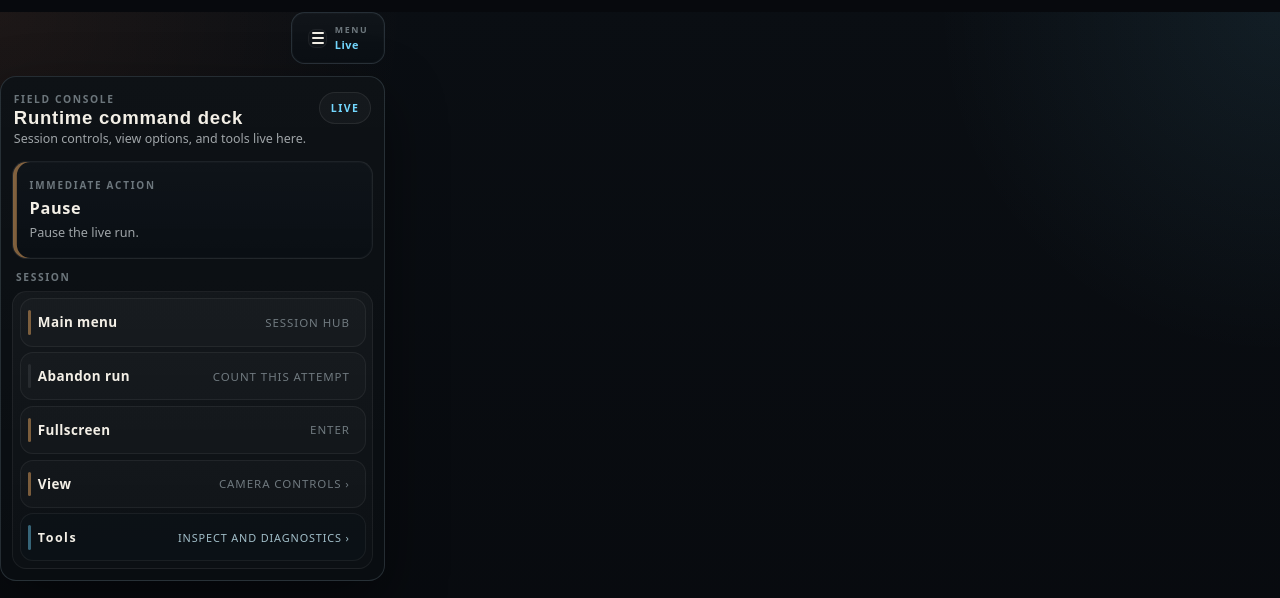
ShellMenu › opens a dedicated Tools submenu instead of keeping utility controls on the root screen
Click the button "Tools Inspect and diagnostics ›" at x=193, y=537, box [20,513,366,561]
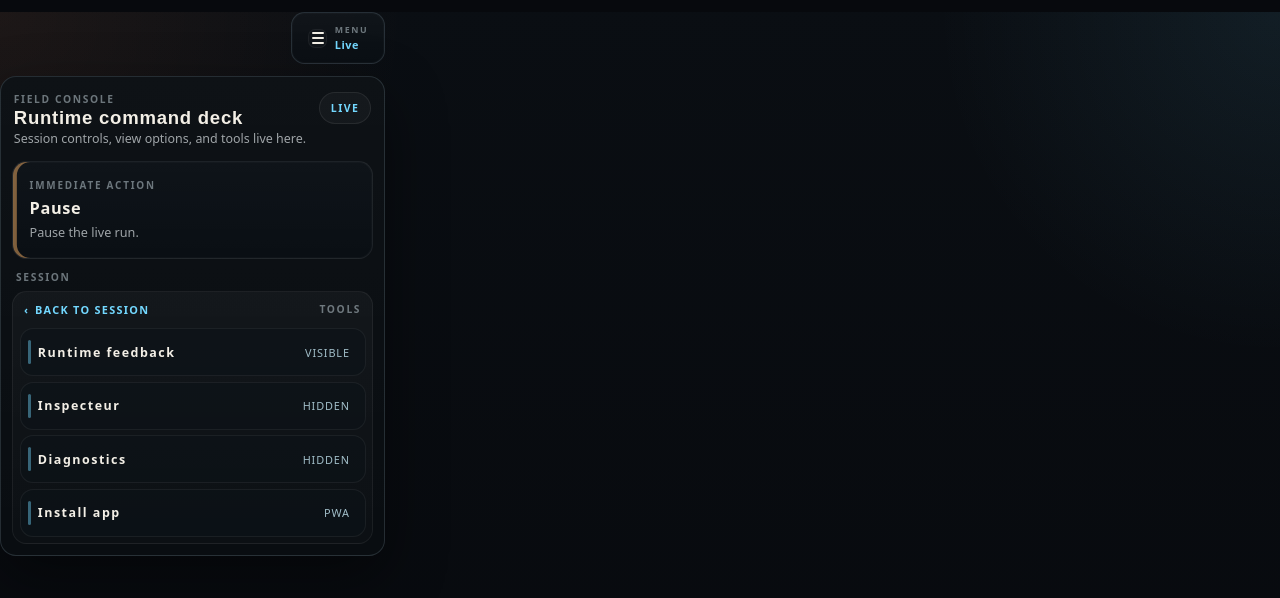
Expected: the button "‹ Back to Session" is shown, [24,302,149,317]
Expected: the button "Runtime feedback Visible" is shown, [20,328,366,376]
Expected: the button "Inspecteur Hidden" is shown, [20,382,366,430]
